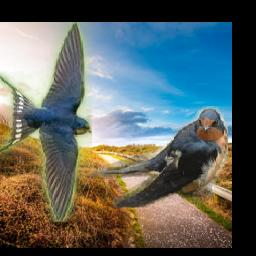Swallow: (0, 22, 92, 222), (90, 107, 228, 208)
